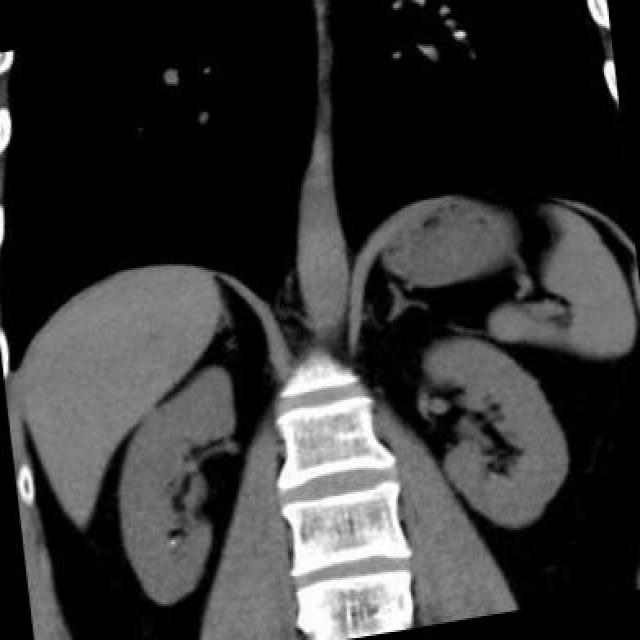Tas_Var: (165, 535, 180, 547)
